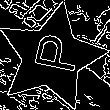P_W: (22, 34, 80, 80)
